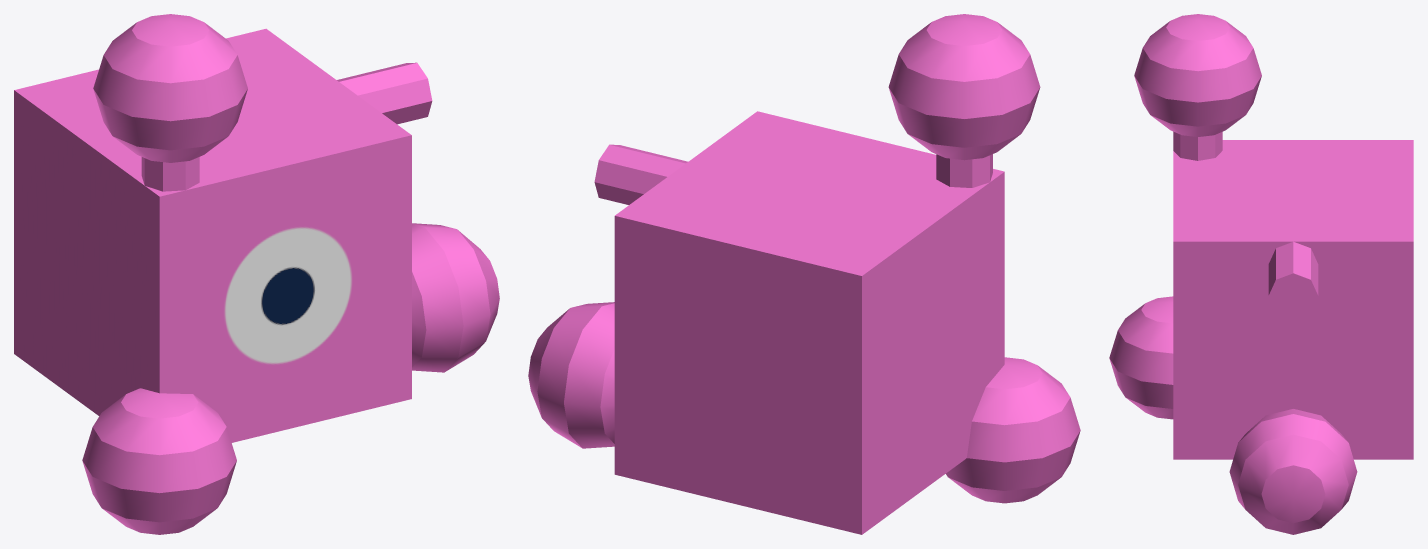
File: virus_D.fbx
The picture shows the model from 3 angles, left to right: view 1: azimuth 30°, elevation 25°; view 2: azimuth 150°, elevation 25°; view 3: azimuth 270°, elevation 25°; orthographic projection. The views are drawn at different scales.
Parts seen in each view (by area): view 1: virus_D; view 2: virus_D; view 3: virus_D.
Boxes of the visible parts, x1,y1,x2,y2 form: virus_D: [14, 14, 499, 534]; virus_D: [528, 14, 1080, 534]; virus_D: [1109, 14, 1413, 534].
Size of the model in its own units: 49.43 by 49.22 by 33.62.
